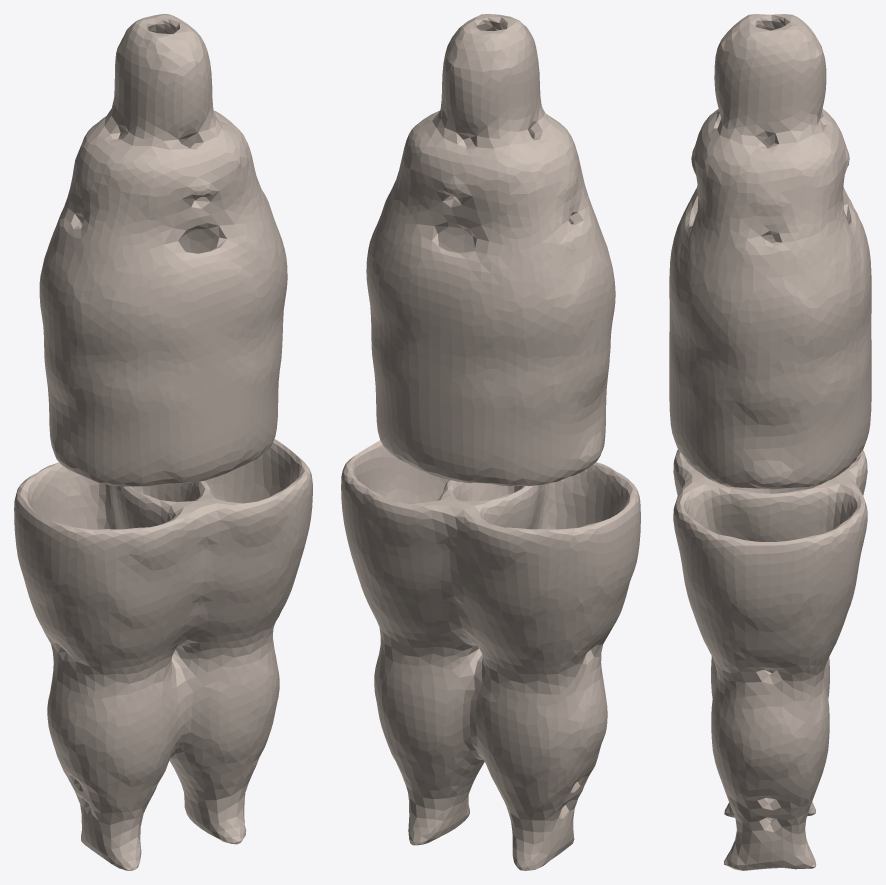
File: body_mesh.glb
3 views of the same model, side by side, from view 1: azimuth 30°, elevation 25°; view 2: azimuth 150°, elevation 25°; view 3: azimuth 270°, elevation 25° (orthographic).
Parts seen in each view (by area): view 1: world; view 2: world; view 3: world.
Part boxes in pixels (box(x1,y1,x2,y2)): world: box(14, 14, 312, 870); world: box(341, 14, 640, 870); world: box(669, 14, 871, 870).
Size of the model in its own units: 23.42 by 68.31 by 15.29.
